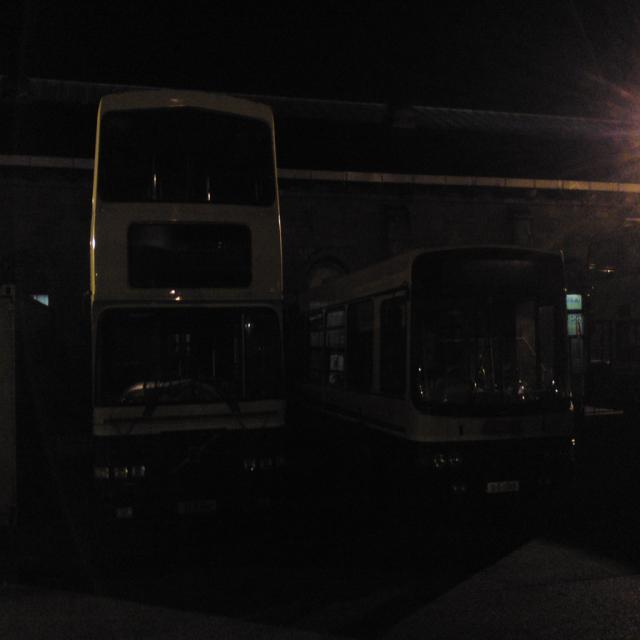Bus: (69, 53, 312, 551), (294, 237, 620, 556)
